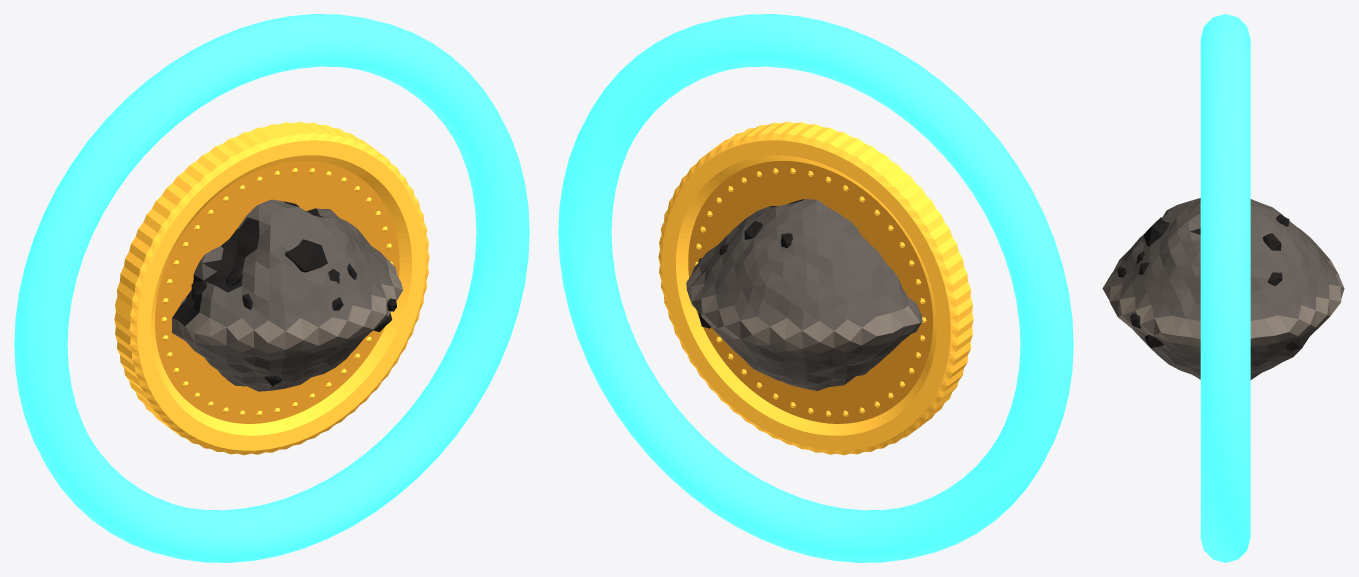
Rendered from ion-storm-props.glb.
3 renders of one model, left to right at view 1: azimuth 30°, elevation 25°; view 2: azimuth 150°, elevation 25°; view 3: azimuth 270°, elevation 25°, orthographic. The views are drawn at different scales.
Visible parts, largest first — view 1: ring, coin, bennu; view 2: ring, coin, bennu; view 3: ring, bennu.
Part boxes in pixels (x1=…): ring: x1=14, y1=14, x2=529, y2=562; coin: x1=114, y1=121, x2=429, y2=455; bennu: x1=172, y1=199, x2=402, y2=391; ring: x1=558, y1=14, x2=1073, y2=562; coin: x1=658, y1=121, x2=973, y2=455; bennu: x1=686, y1=199, x2=919, y2=390; ring: x1=1200, y1=14, x2=1250, y2=562; bennu: x1=1102, y1=198, x2=1344, y2=379.
Size of the model in its own units: 2.2 by 2.2 by 0.9689.
